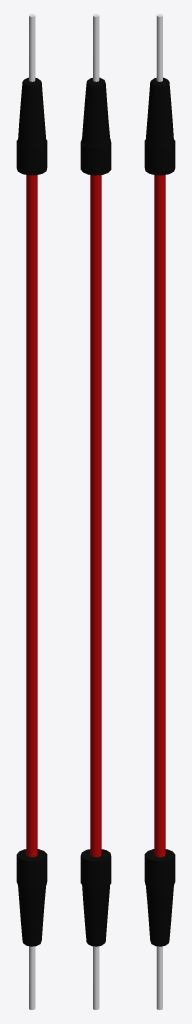
The model's file is cable_dupont_8mm.glb.
The picture shows the model from 3 angles, left to right: view 1: azimuth 30°, elevation 25°; view 2: azimuth 150°, elevation 25°; view 3: azimuth 330°, elevation 25°; orthographic projection.
Parts seen in each view (by area): view 1: Solid1, Solid2, Solid3; view 2: Solid1, Solid2, Solid3; view 3: Solid1, Solid2, Solid3.
Part boxes in pixels (<box>): Solid1: <box>26,175,37,857</box>; Solid2: <box>16,77,47,946</box>; Solid3: <box>29,14,35,1009</box>; Solid1: <box>90,175,101,857</box>; Solid2: <box>80,77,111,946</box>; Solid3: <box>93,14,99,1009</box>; Solid1: <box>154,175,165,857</box>; Solid2: <box>144,77,175,946</box>; Solid3: <box>156,14,162,1009</box>.
Size of the model in its own units: 0.00318 by 0.1144 by 0.00315.
